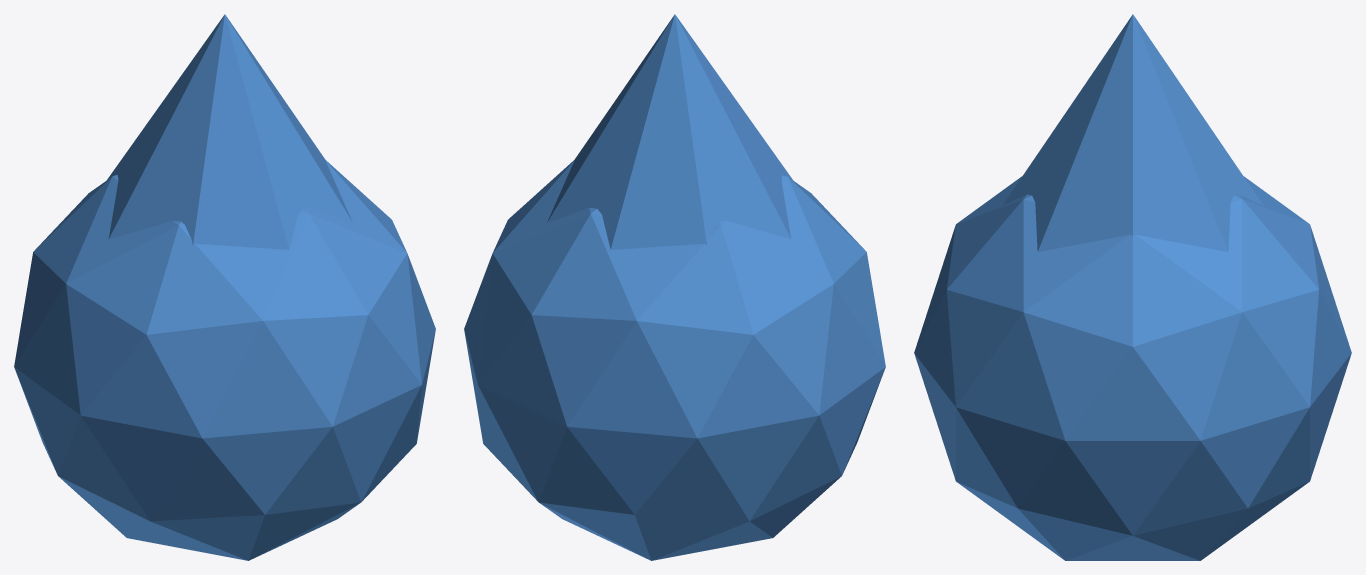
Rendered from Water_Droplet.fbx.
The picture shows the model from 3 angles, left to right: view 1: azimuth 30°, elevation 25°; view 2: azimuth 150°, elevation 25°; view 3: azimuth 270°, elevation 25°; orthographic projection.
Parts seen in each view (by area): view 1: Water_Droplet; view 2: Water_Droplet; view 3: Water_Droplet.
Boxes of the visible parts, box(x1,y1,x2,y2) form: Water_Droplet: box(14, 14, 435, 560); Water_Droplet: box(464, 14, 885, 560); Water_Droplet: box(914, 14, 1351, 560).
Bounding box in the file's own units: 0.2283 × 0.325 × 0.24.
